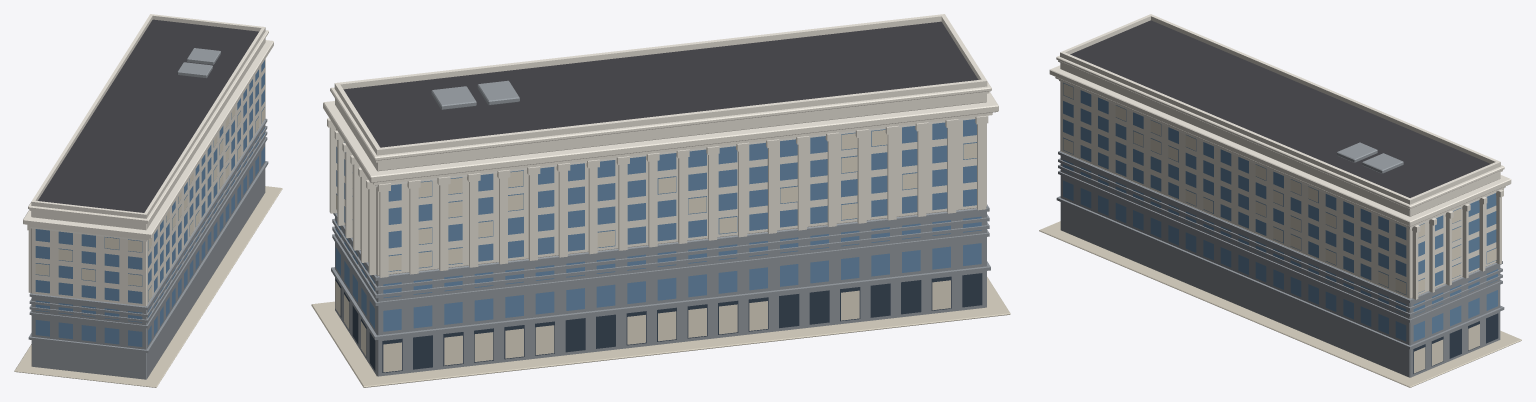
The model's file is 74-new-montgomery-street.glb.
3 views of the same model, side by side, from view 1: azimuth 30°, elevation 25°; view 2: azimuth 150°, elevation 25°; view 3: azimuth 270°, elevation 25° (orthographic). The views are drawn at different scales.
Parts seen in each view (by area): view 1: 74-new-montgomery-street_body, 74-new-montgomery-street_night_glow; view 2: 74-new-montgomery-street_body, 74-new-montgomery-street_night_glow; view 3: 74-new-montgomery-street_body, 74-new-montgomery-street_night_glow.
Part boxes in pixels (left/top/right/bottom): 74-new-montgomery-street_body: left=14, top=14, right=282, bottom=387; 74-new-montgomery-street_night_glow: left=30, top=107, right=264, bottom=301; 74-new-montgomery-street_body: left=311, top=14, right=1010, bottom=387; 74-new-montgomery-street_night_glow: left=335, top=117, right=976, bottom=372; 74-new-montgomery-street_body: left=1039, top=14, right=1521, bottom=387; 74-new-montgomery-street_night_glow: left=1059, top=80, right=1496, bottom=373.
Bounding box in the file's own units: 79.97 × 32.7 × 79.97.
